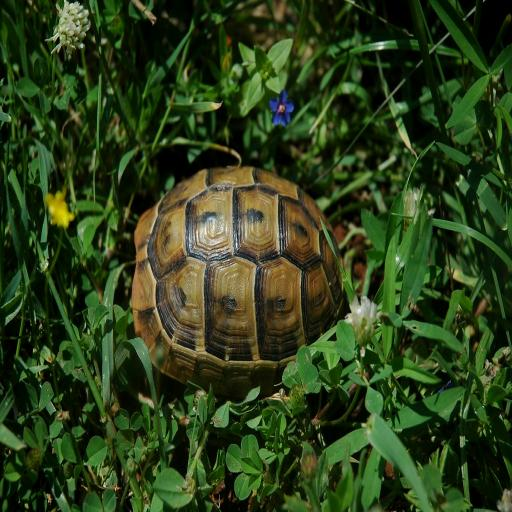turtle: (122, 162, 358, 405)
